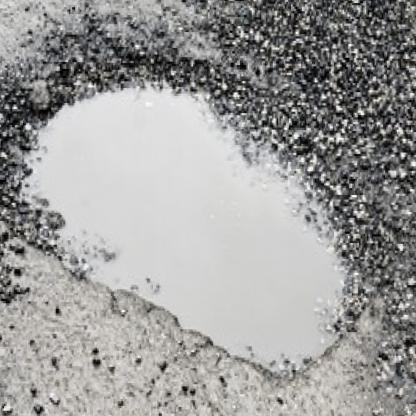pothole: (0, 51, 381, 382)
